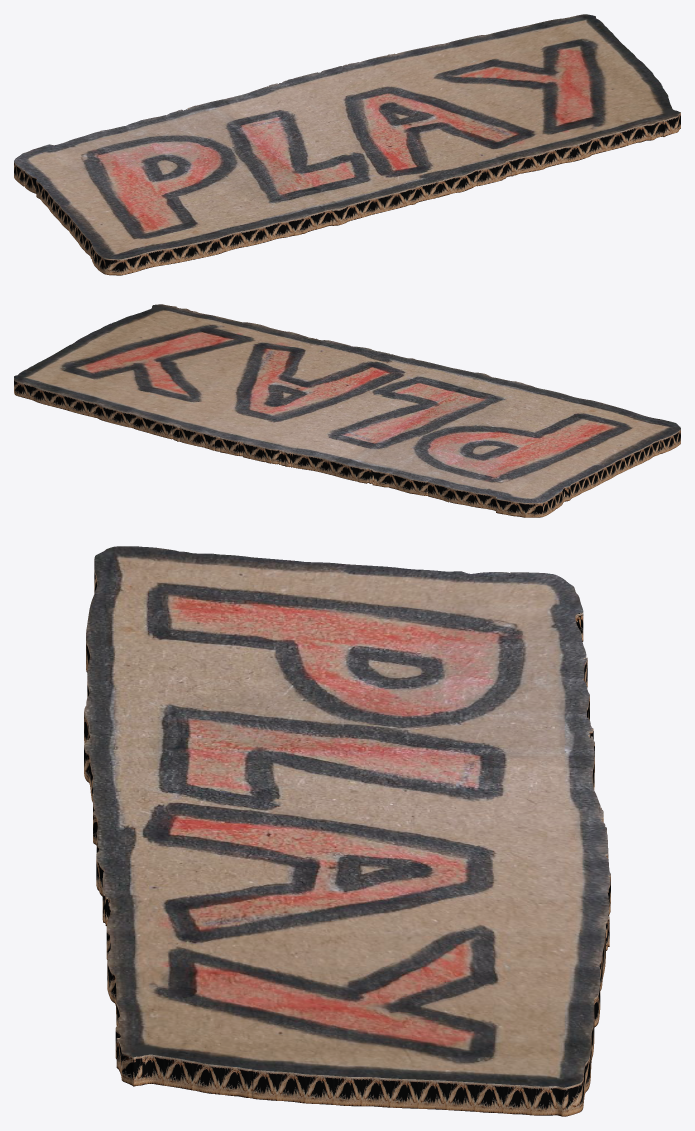
File: Play.fbx
The picture shows the model from 3 angles, top to bottom: view 1: azimuth 30°, elevation 25°; view 2: azimuth 150°, elevation 25°; view 3: azimuth 270°, elevation 25°; orthographic projection. The views are drawn at different scales.
Parts seen in each view (by area): view 1: Play; view 2: Play; view 3: Play.
Boxes of the visible parts, x1,y1,x2,y2 form: Play: (14, 14, 680, 275); Play: (14, 304, 680, 517); Play: (84, 546, 610, 1116).
Size of the model in its own units: 3.97 by 0.1 by 1.63.
